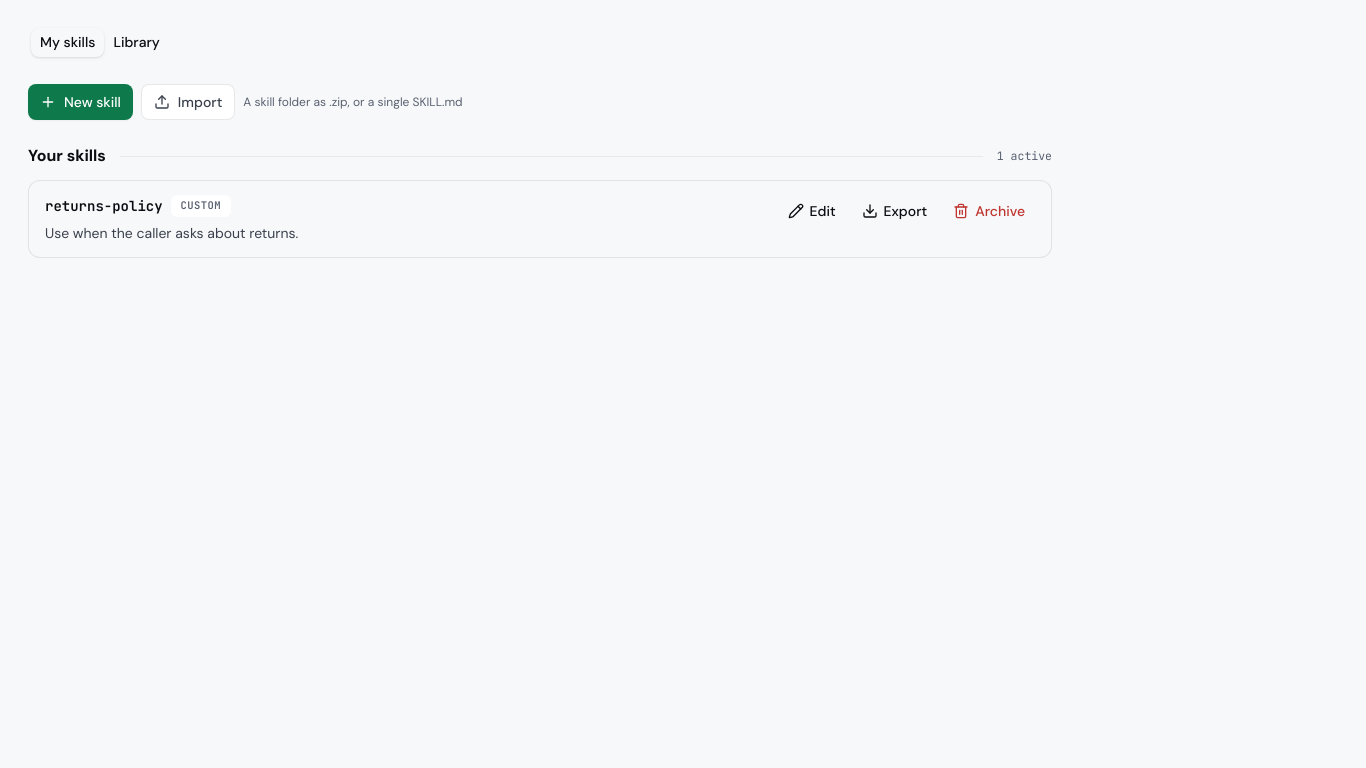
Scenario: My skills › archives after confirmation
This screenshot has width=1366, height=768.
Click the button with aria-label "Archive returns-policy" at [989, 211], box [943,195,1035,227]
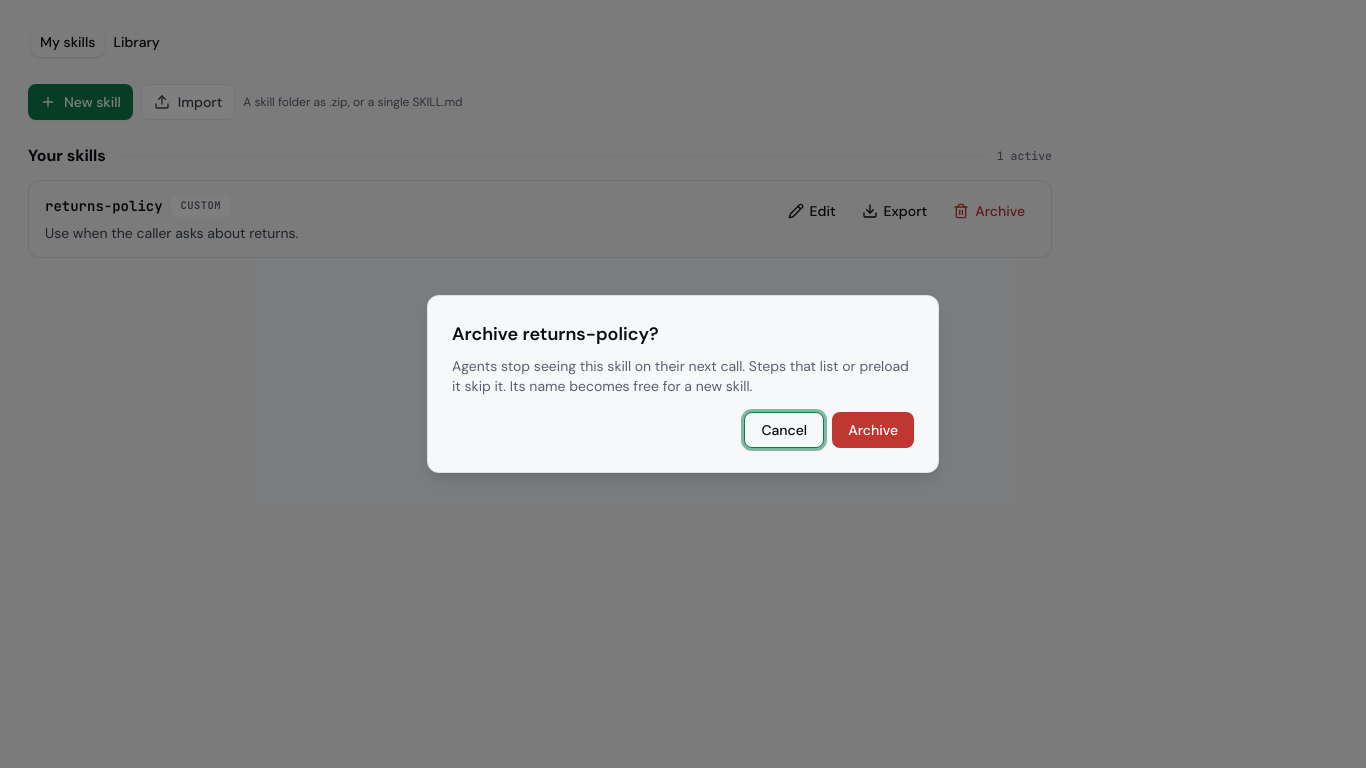
Click the button "Archive" at [873, 430], box [832,412,914,448]
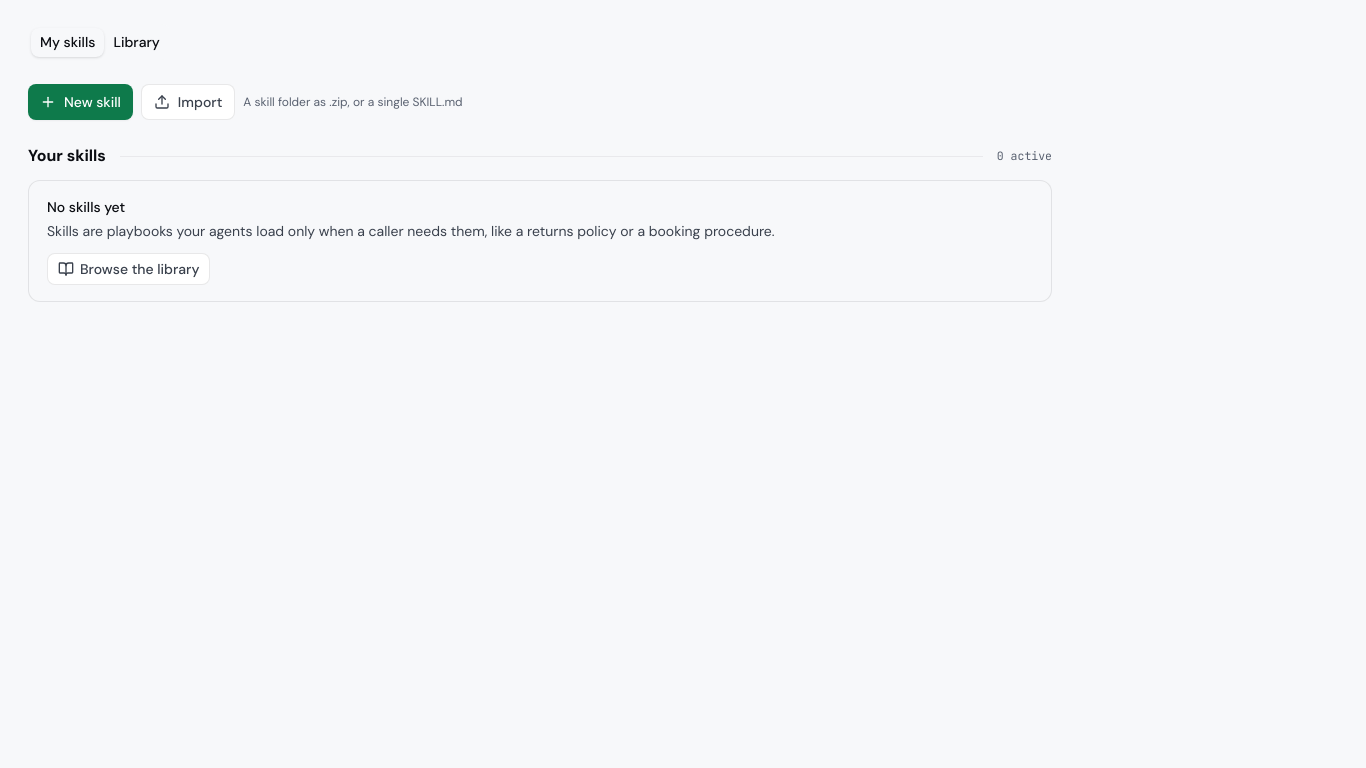
expect the text "No skills yet" is shown: met, box [47,198,125,216]
